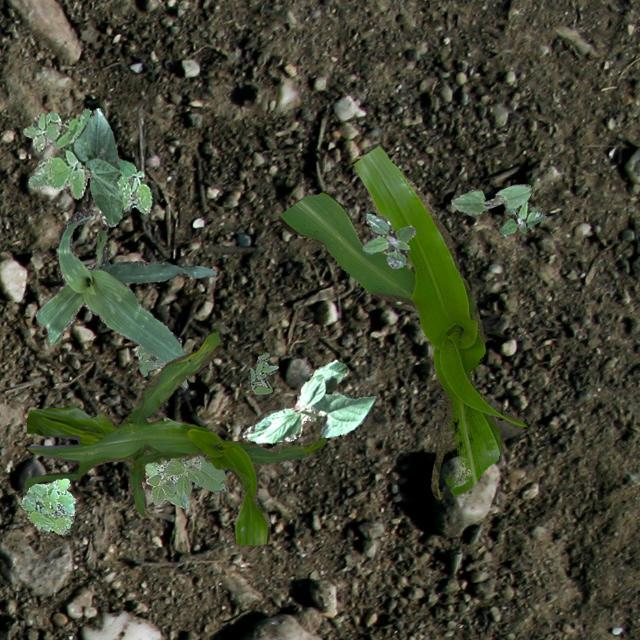crop: (278, 144, 524, 498), (23, 328, 326, 544), (34, 208, 214, 362), (242, 358, 376, 442), (144, 417, 226, 508), (70, 107, 122, 226), (450, 182, 530, 215)
weed: (22, 108, 152, 212), (20, 478, 74, 534), (362, 212, 414, 268), (136, 344, 187, 388), (500, 200, 544, 234), (250, 352, 278, 394)
